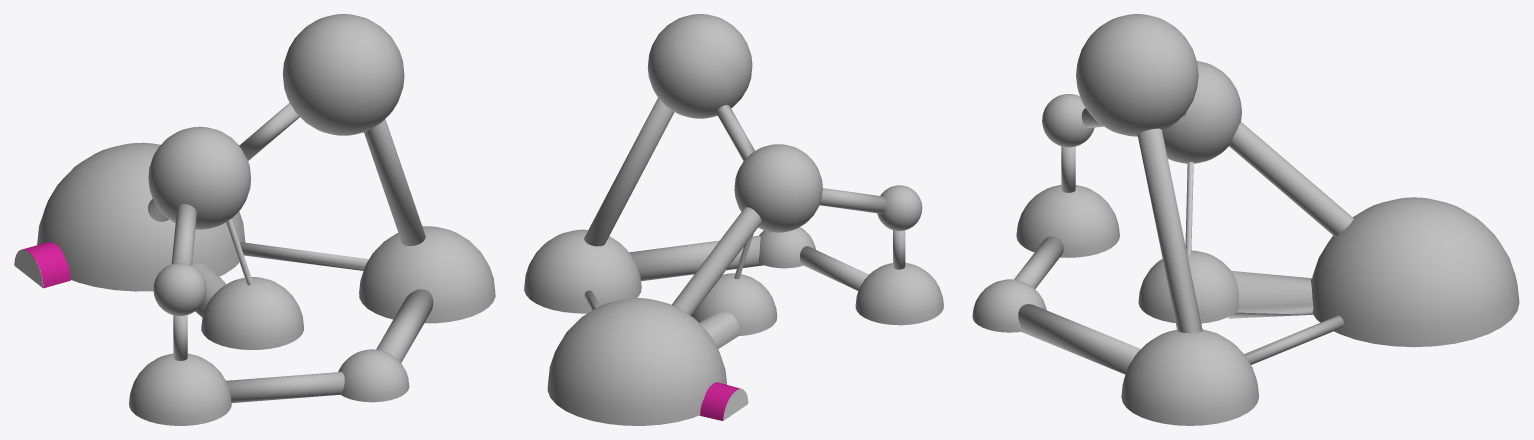
The model's file is rose.fbx.
The picture shows the model from 3 angles, left to right: view 1: azimuth 30°, elevation 25°; view 2: azimuth 150°, elevation 25°; view 3: azimuth 270°, elevation 25°; orthographic projection. The views are drawn at different scales.
Visible parts, largest first — view 1: Sphere, Cylinder.001, Cylinder.002, Circle, Cylinder; view 2: Sphere, Cylinder.001, Cylinder.002, Circle; view 3: Sphere, Cylinder.001, Cylinder.
Boxes of the visible parts, x1=… form: Sphere: x1=37, y1=126, x2=495, y2=425; Cylinder.001: x1=148, y1=14, x2=425, y2=245; Cylinder.002: x1=14, y1=242, x2=70, y2=288; Circle: x1=14, y1=249, x2=43, y2=287; Cylinder: x1=226, y1=219, x2=253, y2=285; Sphere: x1=524, y1=144, x2=943, y2=425; Cylinder.001: x1=584, y1=14, x2=761, y2=315; Cylinder.002: x1=699, y1=382, x2=740, y2=420; Circle: x1=723, y1=389, x2=748, y2=420; Sphere: x1=972, y1=61, x2=1519, y2=425; Cylinder.001: x1=1076, y1=14, x2=1353, y2=333; Cylinder: x1=1185, y1=162, x2=1193, y2=254.
Bounding box in the file's own units: 9.23 × 6.88 × 10.56.
